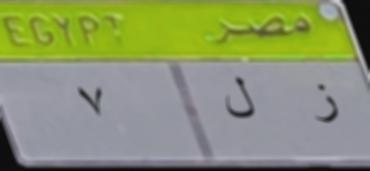7: (74, 80, 108, 126)
laam: (221, 70, 262, 131)
zay: (302, 82, 342, 130)
